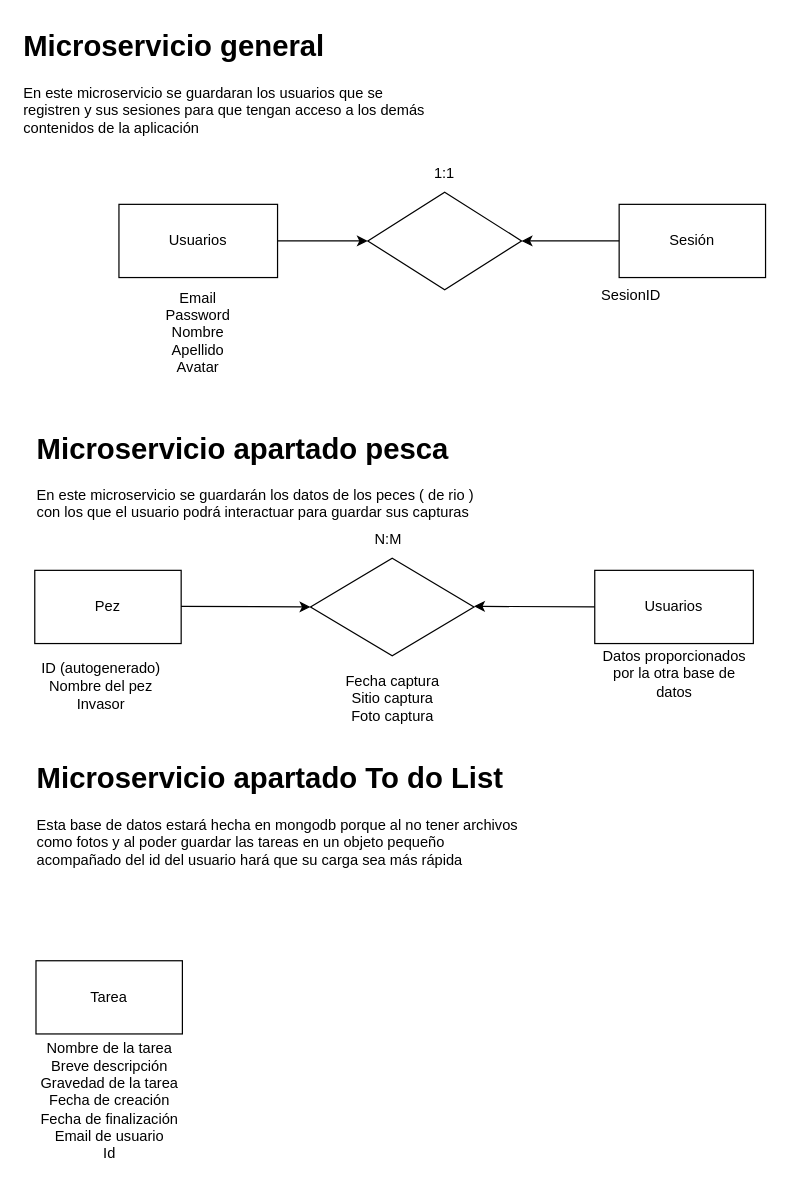
This 787x1183 diagram has some shape labels left out. The centre of each missing label's shape, as x and y in pixels:
Capturado: point 391,606
Guarda: point 444,240
